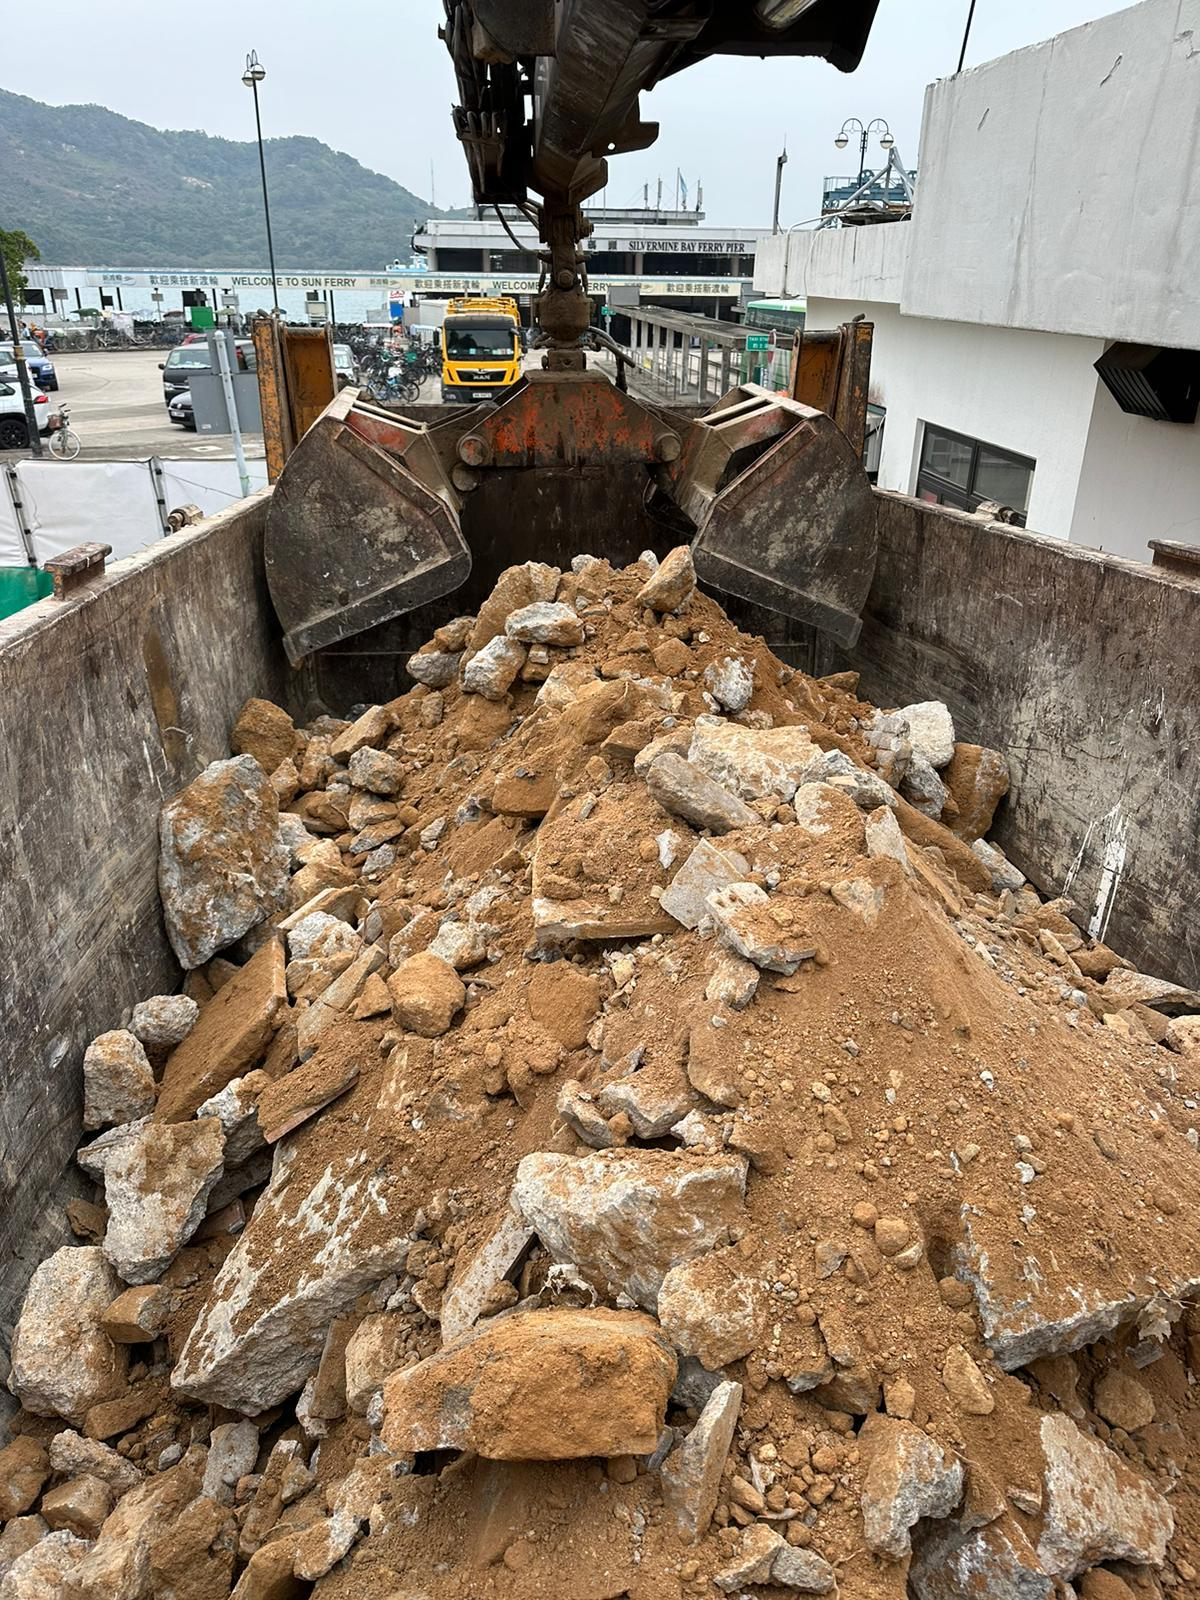dry: (0, 562, 1200, 1600)
